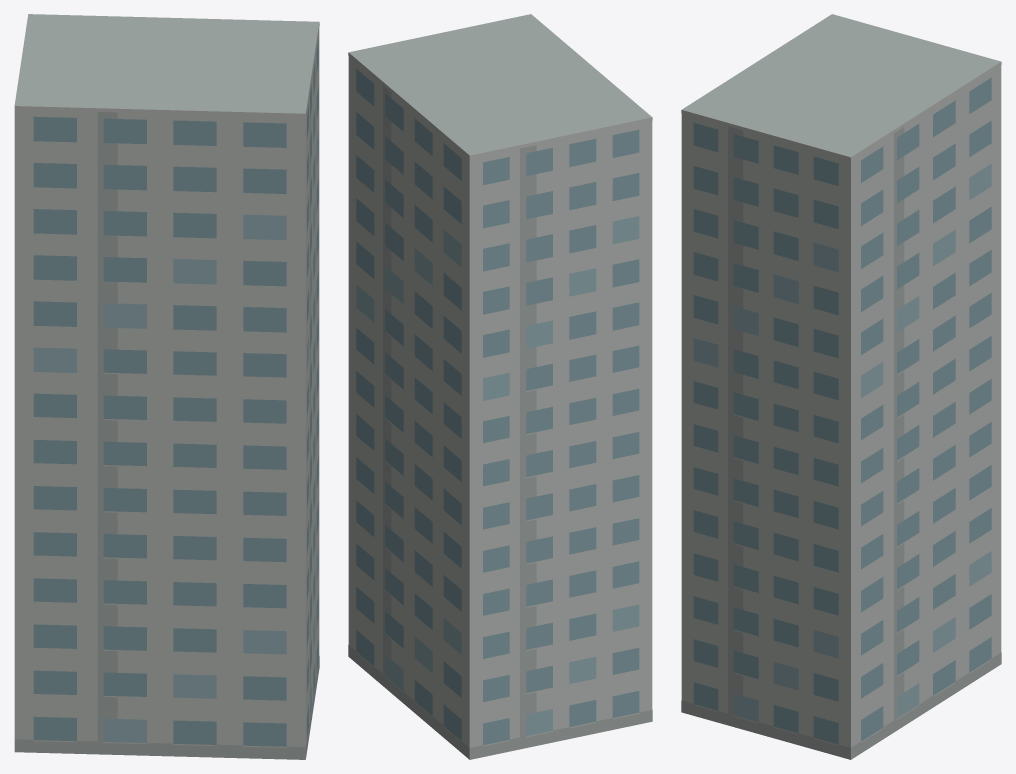
File: residential-69df54b6-c0e4-4ee2-98f5-aea5e8a709fd.glb
3 views of the same model, side by side, from view 1: azimuth 30°, elevation 25°; view 2: azimuth 150°, elevation 25°; view 3: azimuth 270°, elevation 25° (orthographic). The views are drawn at different scales.
Parts seen in each view (by area): view 1: residential-69df54b6-c0e4-4ee2-98f5-aea5e8a709fd.tmp; view 2: residential-69df54b6-c0e4-4ee2-98f5-aea5e8a709fd.tmp; view 3: residential-69df54b6-c0e4-4ee2-98f5-aea5e8a709fd.tmp.
Part boxes in pixels (x1,y1,x2,y2): residential-69df54b6-c0e4-4ee2-98f5-aea5e8a709fd.tmp: (14, 14, 319, 759); residential-69df54b6-c0e4-4ee2-98f5-aea5e8a709fd.tmp: (348, 14, 652, 759); residential-69df54b6-c0e4-4ee2-98f5-aea5e8a709fd.tmp: (681, 14, 1001, 759).
Size of the model in its own units: 21.95 by 43 by 20.7.
